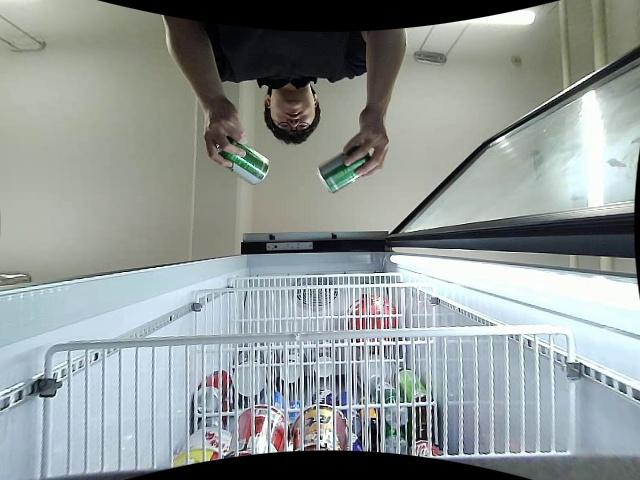00_hand: (343, 107, 389, 179), (202, 94, 247, 167)
12_chilsungCider: (317, 145, 376, 192), (219, 137, 270, 185)
